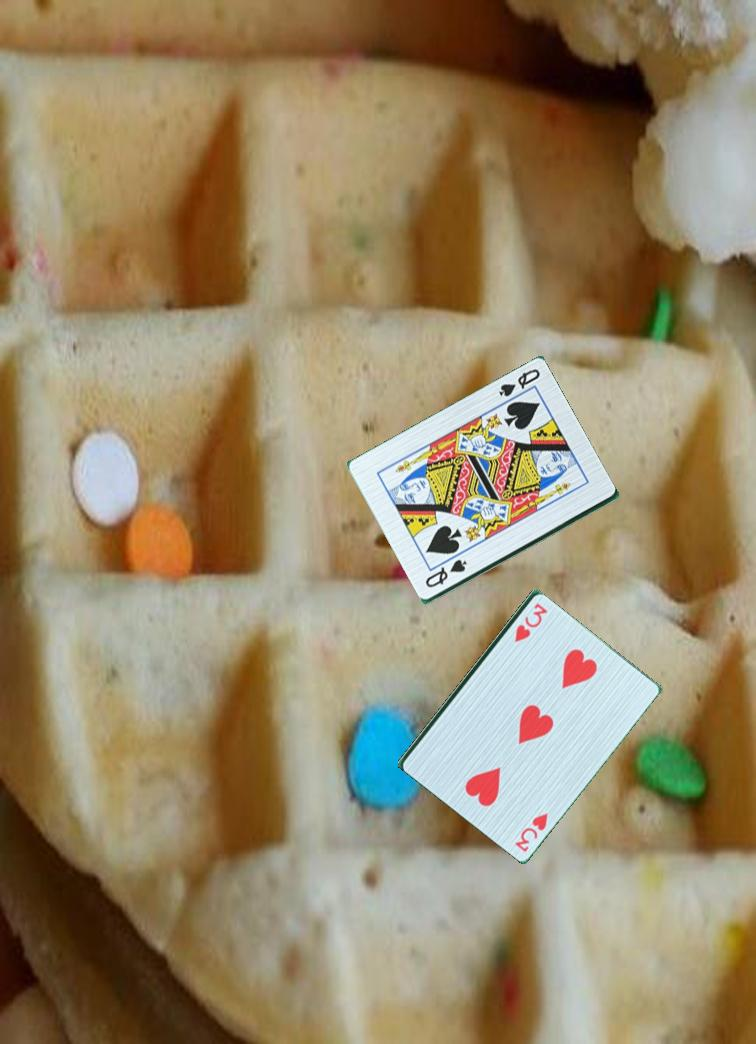3h: (511, 801, 551, 855), (511, 599, 549, 645)
qs: (495, 365, 543, 400), (422, 557, 470, 591)
